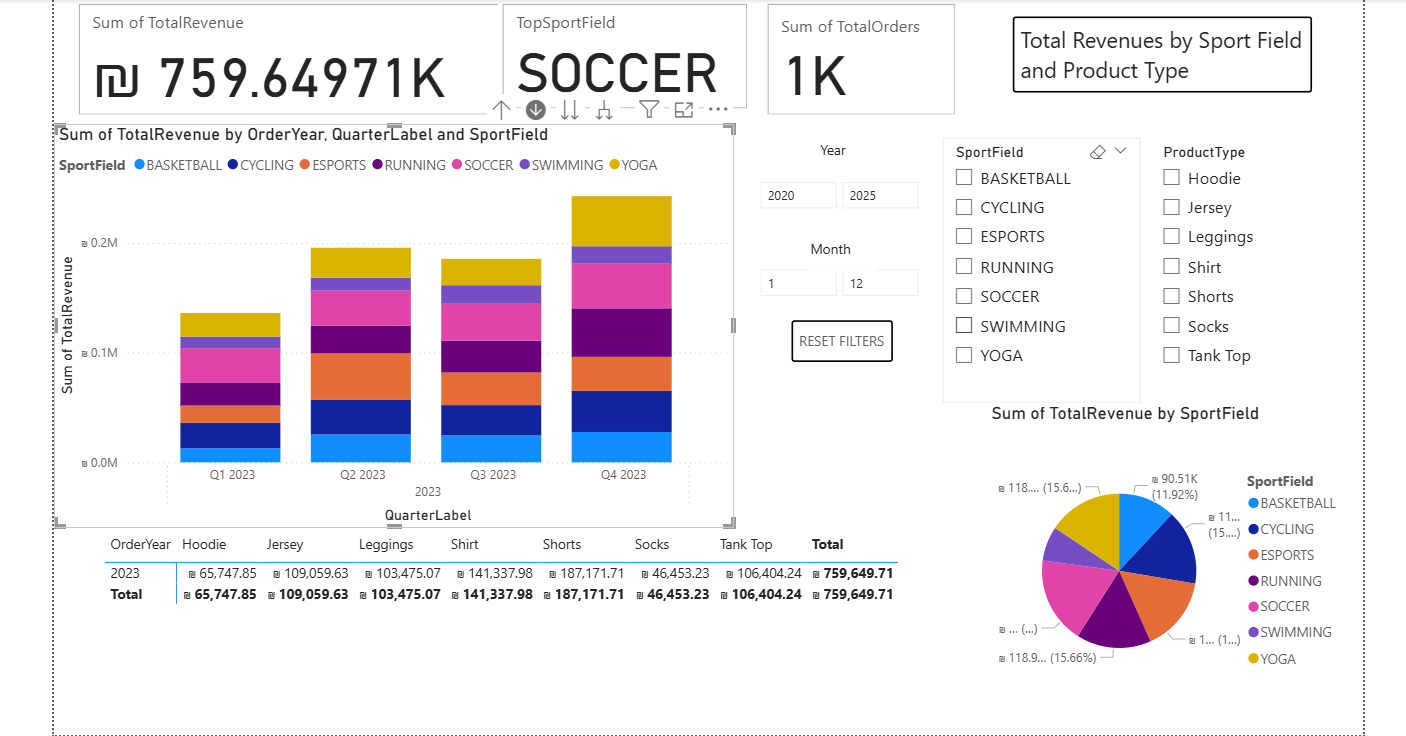

The dashboard page shown, as its layout file describes it:
{"tool":"powerbi","page":{"name":"Dashboard","canvas":[1280,720],"ordinal":1},"visuals":[{"type":"columnChart","fields":{"Y":["Sum(SportRevenue.TotalRevenue)"],"Series":["SportRevenue.SportField"],"Category":["SportRevenue.OrderYear","SportRevenue.QuarterLabel","SportRevenue.OrderMonth","SportRevenue.OrderDay"]},"box":[0,121.9,664.7,395.7],"z":0},{"type":"cardVisual","fields":{"Data":["Sum(SportRevenue.TotalRevenue)"]},"box":[19.3,0,424.7,118.2],"z":1000},{"type":"cardVisual","fields":{"Data":["SportRevenue.TopSportField"]},"box":[434.3,0,249.7,112.2],"z":2000},{"type":"cardVisual","fields":{"Data":["Sum(SportRevenue.TotalOrders)"]},"box":[693.7,0,193,118.2],"z":3000},{"type":"slicer","fields":{"Values":["SportRevenue.ProductType"]},"box":[1072.5,136.3,195.4,236.5],"z":4000},{"type":"slicer","fields":{"Values":["SportRevenue.SportField"]},"box":[869.8,136.3,193,258.2],"z":5000},{"type":"actionButton","box":[721,313.9,98.9,41],"z":6000},{"type":"textbox","box":[937.4,16.9,293.2,74.8],"z":7000},{"type":"pivotTable","fields":{"Rows":["SportRevenue.OrderYear"],"Columns":["SportRevenue.ProductType"],"Values":["Sum(SportRevenue.TotalRevenue)"]},"box":[44.6,517.6,825.2,202.7],"z":8000},{"type":"pieChart","fields":{"Category":["SportRevenue.SportField"],"Y":["Sum(SportRevenue.TotalRevenue)"]},"box":[912.1,394.5,355.9,310.1],"z":9000},{"type":"slicer","fields":{"Values":["SportRevenue.OrderYear"]},"box":[679.2,168.9,181,42.2],"z":11000},{"type":"slicer","fields":{"Values":["SportRevenue.OrderMonth"]},"box":[679.2,254.6,177.3,39.8],"z":11001},{"type":"textbox","box":[745.1,132.9,53.1,36.2],"z":11002},{"type":"textbox","box":[735.4,229.5,70,36.2],"z":11003}]}

Visuals, with their boxes on the page's 1280x720 design canvas (x1, y1, x2, y2). These are canvas units, not pixel positions in the 1406x736 screenshot, which may show the page scaled, cropped or inside an application window:
columnChart - Sum(SportRevenue.TotalRevenue) x SportRevenue.SportField: [left=0, top=122, right=665, bottom=518]
cardVisual - Sum(SportRevenue.TotalRevenue): [left=19, top=0, right=444, bottom=118]
cardVisual - SportRevenue.TopSportField: [left=434, top=0, right=684, bottom=112]
cardVisual - Sum(SportRevenue.TotalOrders): [left=694, top=0, right=887, bottom=118]
slicer - SportRevenue.ProductType: [left=1072, top=136, right=1268, bottom=373]
slicer - SportRevenue.SportField: [left=870, top=136, right=1063, bottom=394]
actionButton: [left=721, top=314, right=820, bottom=355]
textbox: [left=937, top=17, right=1231, bottom=92]
pivotTable - SportRevenue.OrderYear x SportRevenue.ProductType: [left=45, top=518, right=870, bottom=720]
pieChart - SportRevenue.SportField x Sum(SportRevenue.TotalRevenue): [left=912, top=394, right=1268, bottom=705]
slicer - SportRevenue.OrderYear: [left=679, top=169, right=860, bottom=211]
slicer - SportRevenue.OrderMonth: [left=679, top=255, right=856, bottom=294]
textbox: [left=745, top=133, right=798, bottom=169]
textbox: [left=735, top=230, right=805, bottom=266]
